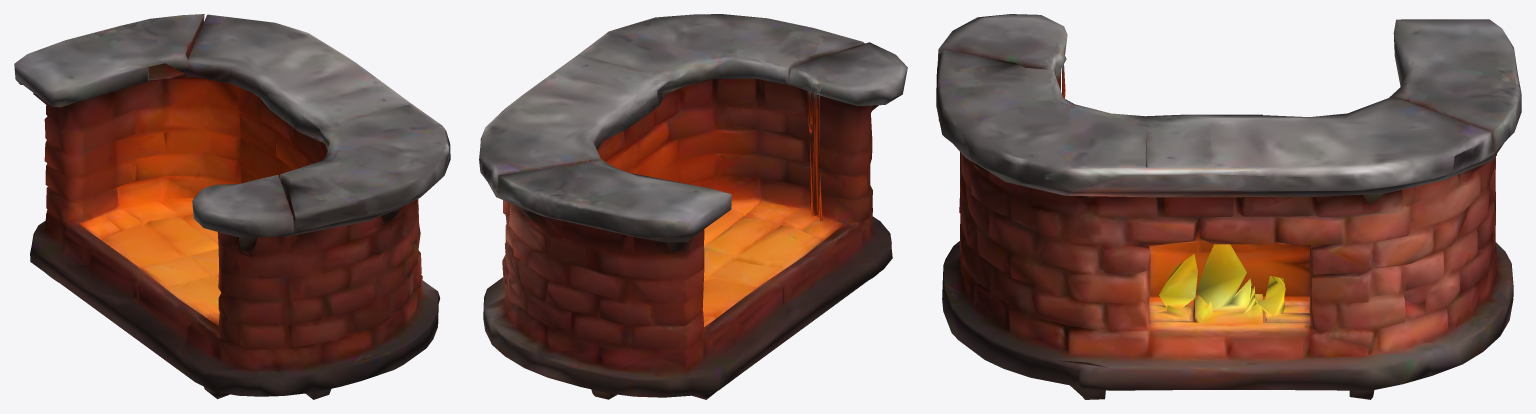
The model's file is kiln-bar.glb.
The picture shows the model from 3 angles, left to right: view 1: azimuth 30°, elevation 25°; view 2: azimuth 150°, elevation 25°; view 3: azimuth 270°, elevation 25°; orthographic projection. The views are drawn at different scales.
Visible parts, largest first — view 1: tripo_node_a81e4c4d-1b6b-44c5-bb66-a5fecfbe7953; view 2: tripo_node_a81e4c4d-1b6b-44c5-bb66-a5fecfbe7953; view 3: tripo_node_a81e4c4d-1b6b-44c5-bb66-a5fecfbe7953.
Boxes of the visible parts, <box> form: tripo_node_a81e4c4d-1b6b-44c5-bb66-a5fecfbe7953: <box>14,14,450,399</box>; tripo_node_a81e4c4d-1b6b-44c5-bb66-a5fecfbe7953: <box>479,14,907,399</box>; tripo_node_a81e4c4d-1b6b-44c5-bb66-a5fecfbe7953: <box>936,14,1521,399</box>.
Size of the model in its own units: 0.643 by 0.4596 by 1.
1 material, 1 textured.
